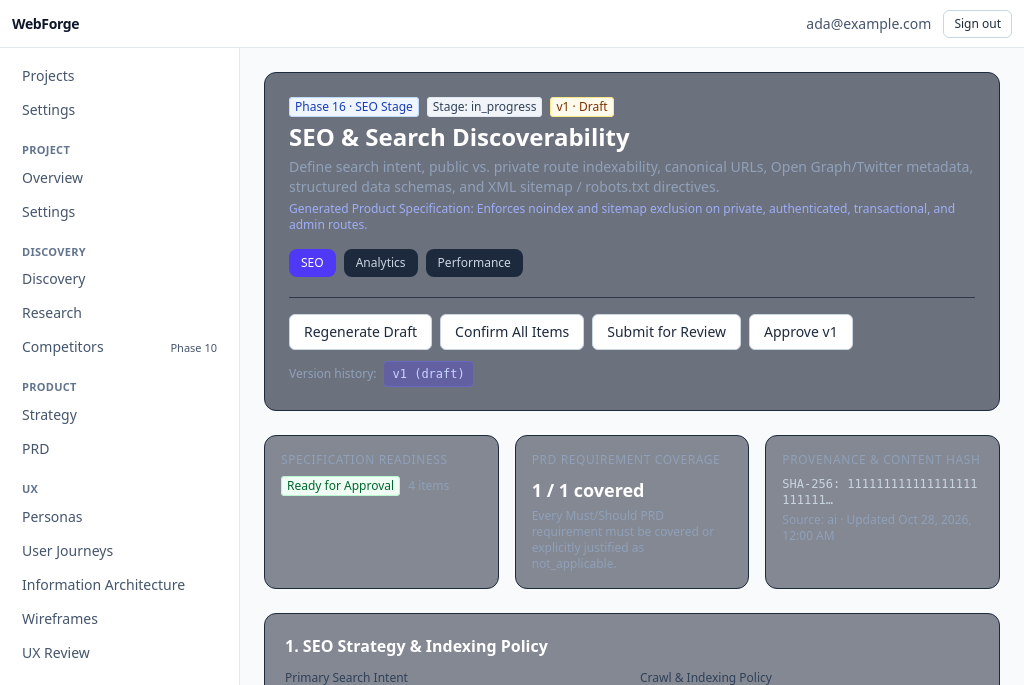
Scenario: Phase 16 Optimization Workspaces (SEO, Analytics & Performance) › supports submitting and approving an SEO draft with exact content_hash
This screenshot has width=1024, height=685.
What coordinates should you click on to do the following:
click the button "Submit for Review"
I would click on:
 (667, 332)
Its box is [592,314,741,350].
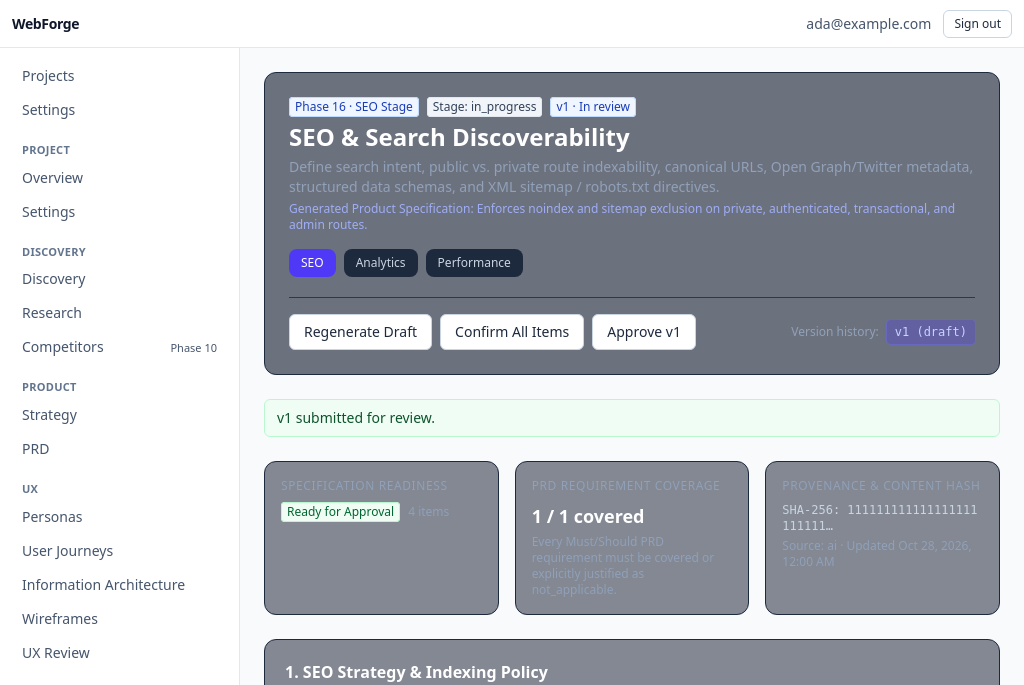
Expected: the text "v1 submitted for review." is shown, [277,408,435,427]
What coordinates should you click on to do the following:
click the button "Approve v1"
I would click on:
 (644, 332)
Its box is [592,314,696,350].
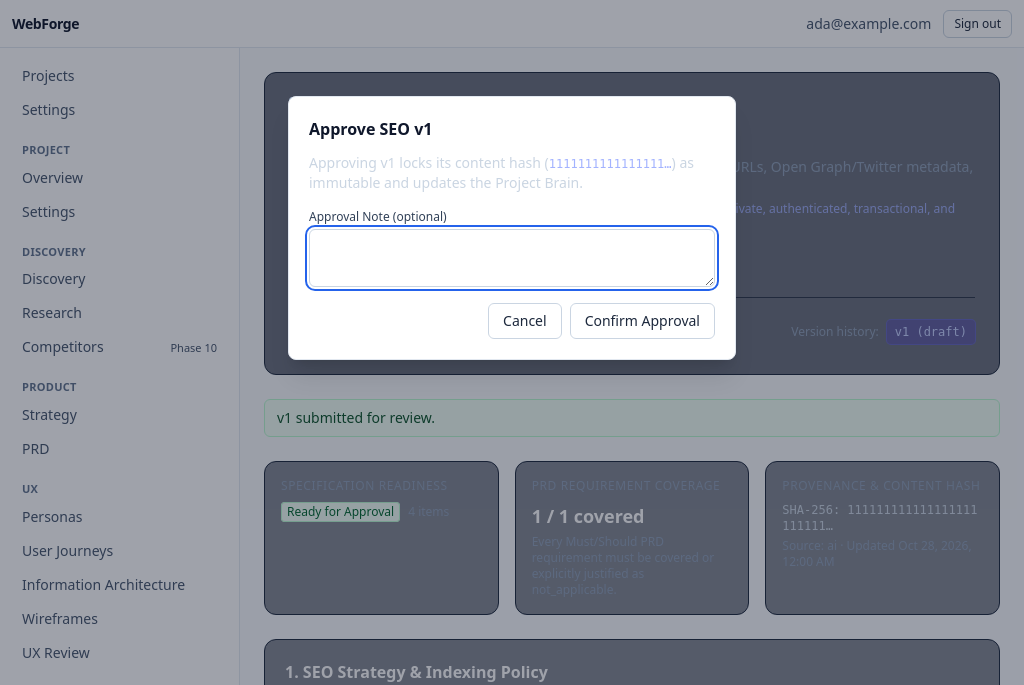
What coordinates should you click on to do the following:
click the button "Confirm Approval"
I would click on:
 (642, 321)
Its box is [570,303,715,339].
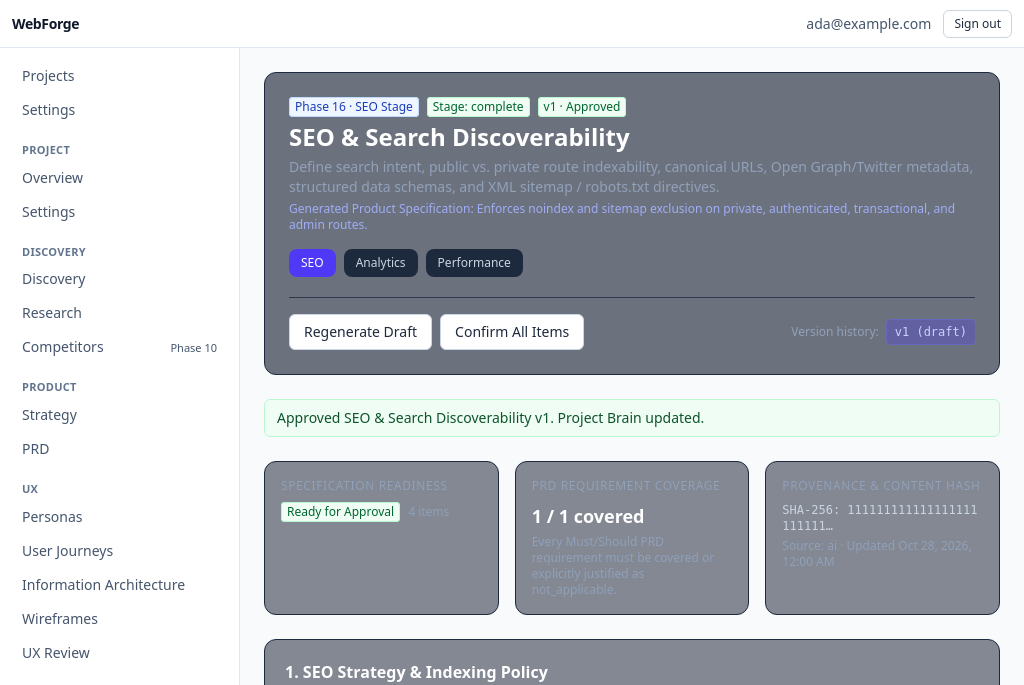
Expected: the text "Project Brain updated" is shown, [277,408,704,427]
